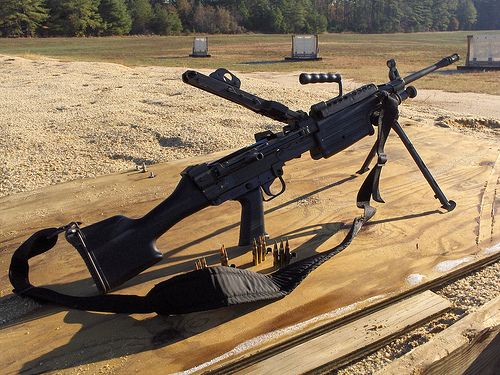rifle: (7, 30, 470, 336)
